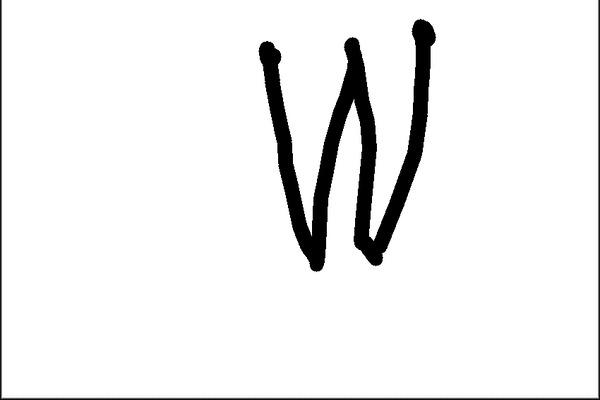w: (238, 7, 456, 269)
